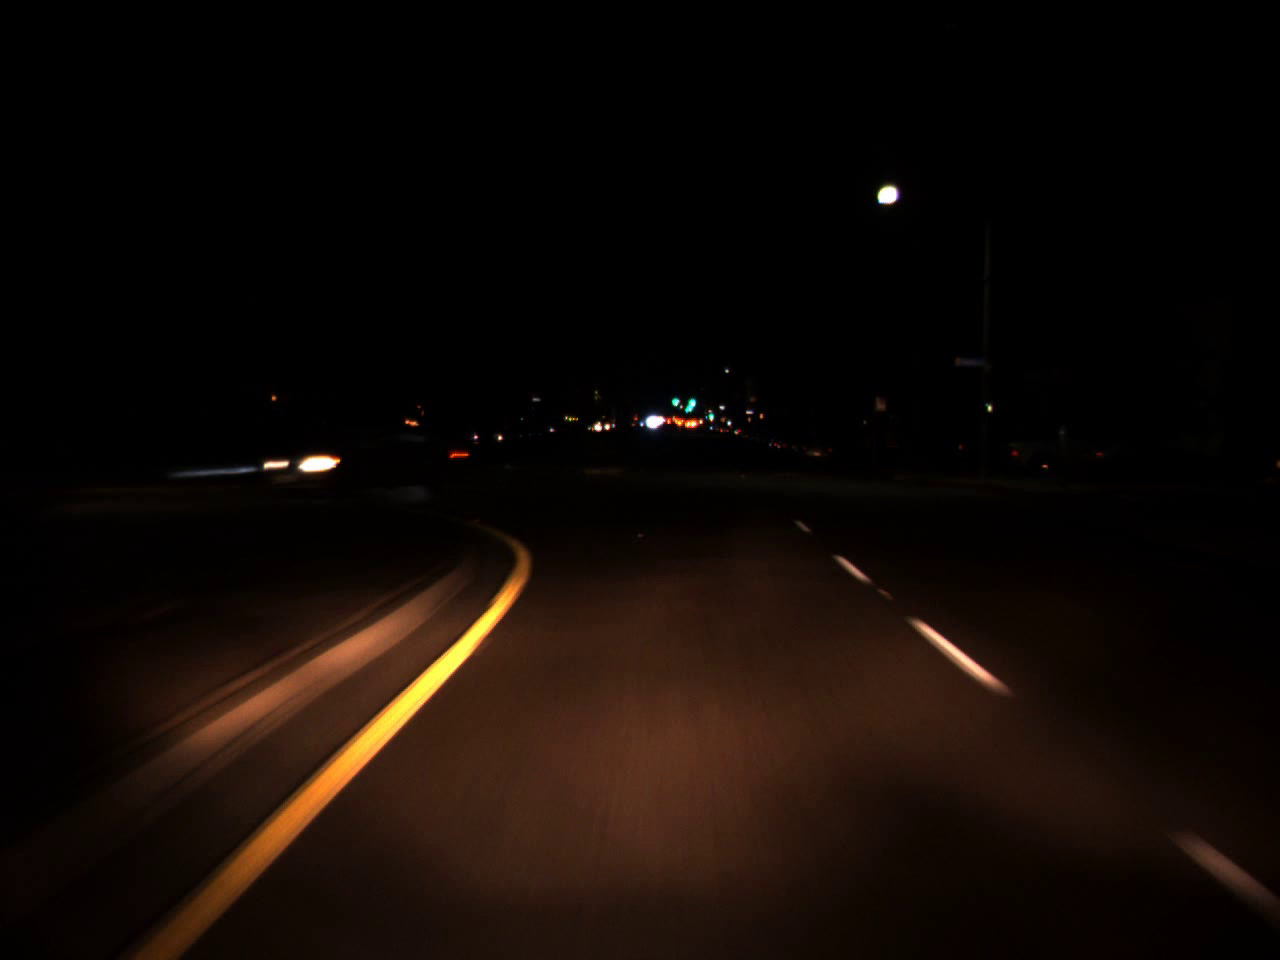go: (684, 387, 700, 408), (669, 388, 679, 409)
